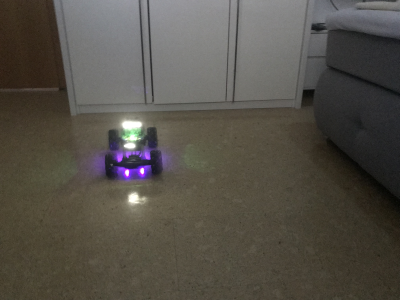remote control car: (97, 118, 164, 179)
